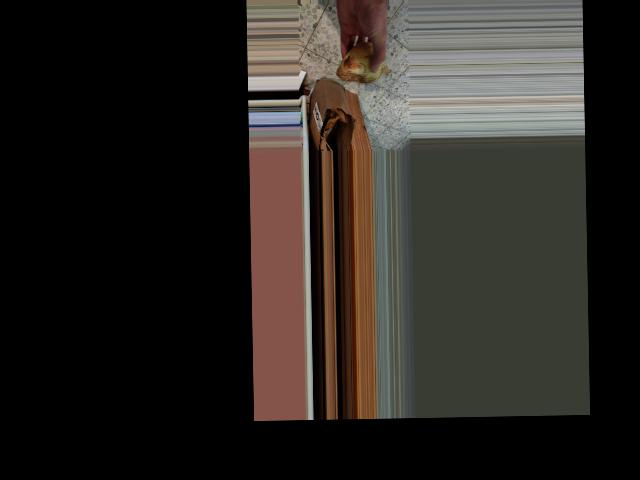onion: (336, 37, 387, 90)
